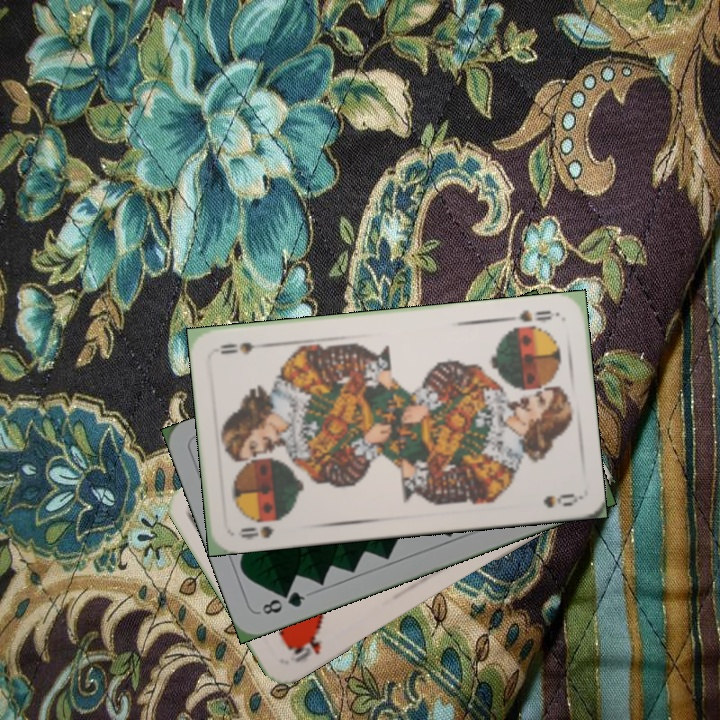G8: (257, 587, 308, 617)
HO: (285, 627, 324, 665)
SO: (502, 305, 554, 325), (234, 522, 277, 542)
